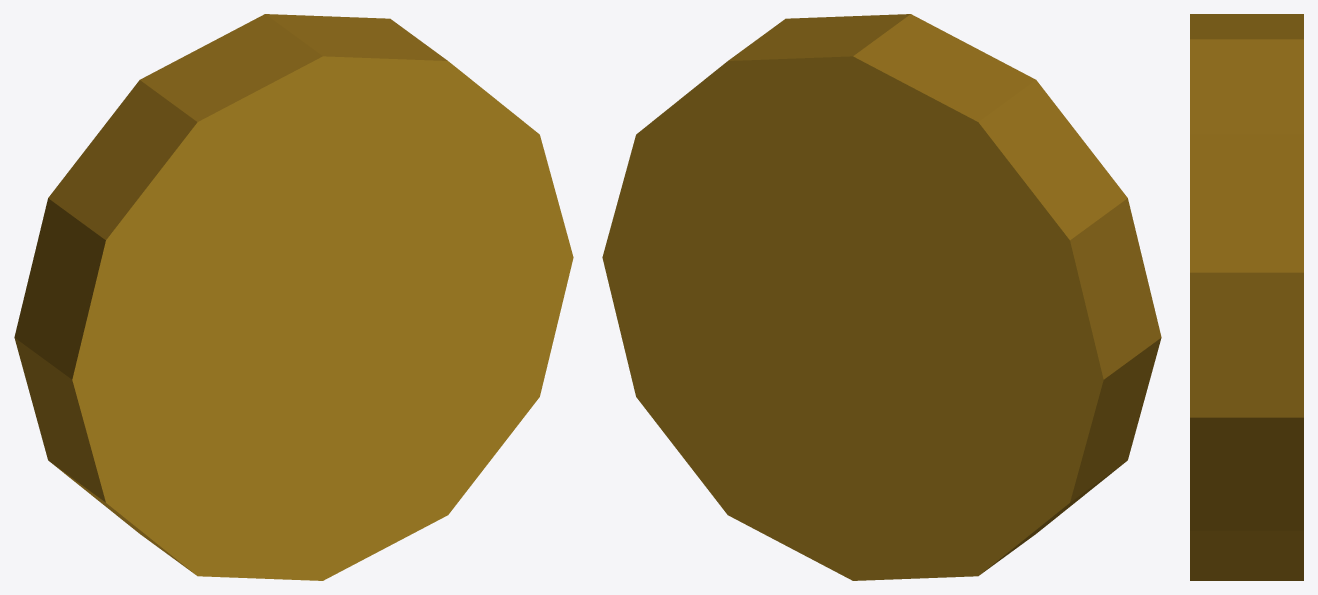
File: coin.obj
3 renders of one model, left to right at view 1: azimuth 30°, elevation 25°; view 2: azimuth 150°, elevation 25°; view 3: azimuth 270°, elevation 25°, orthographic.
Visible parts, largest first — view 1: front, rim; view 2: back, rim; view 3: rim.
Part boxes in pixels (x1,y1,x2,y2): front: [72, 56, 573, 580]; rim: [14, 14, 447, 573]; back: [602, 56, 1103, 580]; rim: [728, 14, 1161, 573]; rim: [1190, 14, 1303, 580].
Size of the model in its own units: 1.8 by 1.8 by 0.36.
